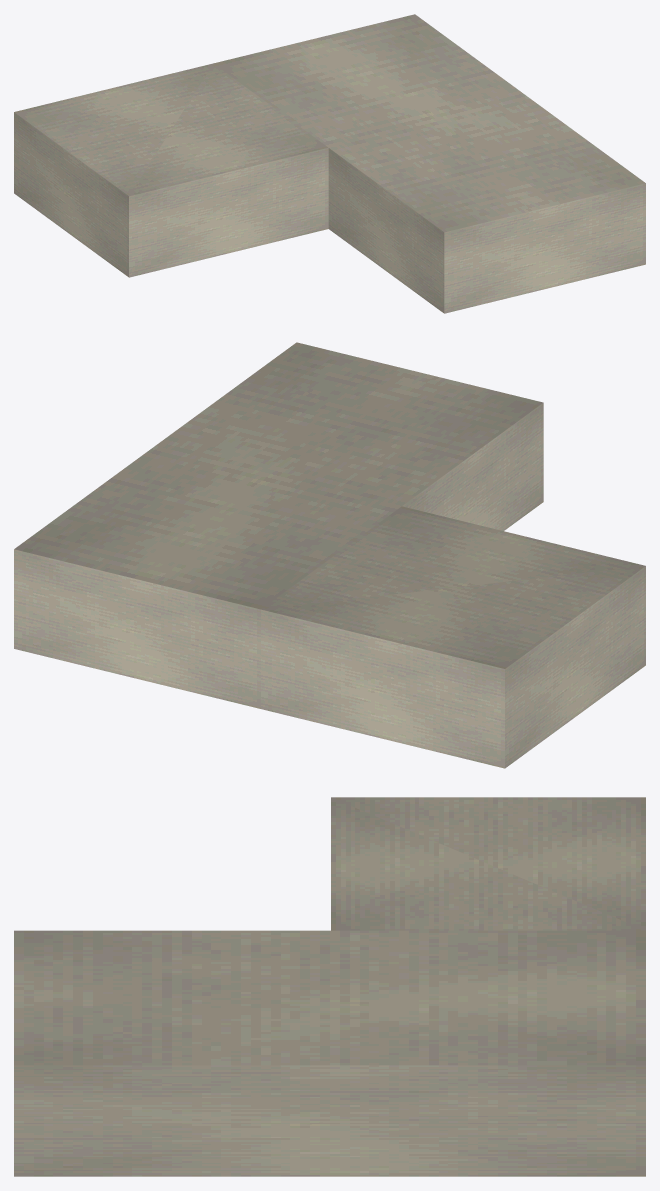
The picture shows the model from 3 angles, top to bottom: view 1: azimuth 30°, elevation 25°; view 2: azimuth 150°, elevation 25°; view 3: azimuth 270°, elevation 25°; orthographic projection. The views are drawn at different scales.
Parts seen in each view (by area): view 1: 1112; view 2: 1112; view 3: 1112.
Boxes of the visible parts, <box> form: 1112: <box>14,14,645,313</box>; 1112: <box>14,342,645,768</box>; 1112: <box>14,797,645,1176</box>.
Bounding box in the file's own units: 1184 × 229 × 1181.
1 material, 1 textured.
